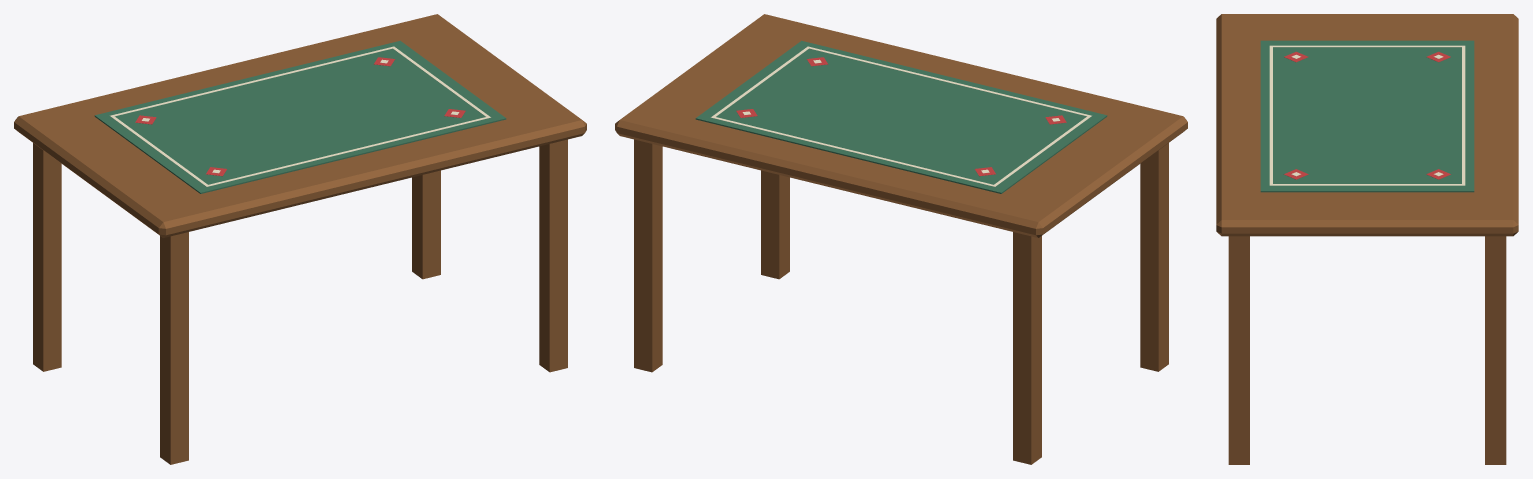
The model's file is table.glb.
3 renders of one model, left to right at view 1: azimuth 30°, elevation 25°; view 2: azimuth 150°, elevation 25°; view 3: azimuth 270°, elevation 25°, orthographic.
Visible parts, largest first — view 1: table; view 2: table; view 3: table.
Boxes of the visible parts, x1,y1,x2,y2 form: table: (14,14,586,464); table: (615,14,1187,464); table: (1216,14,1518,464).
Bounding box in the file's own units: 1.4 × 0.78 × 0.85.
